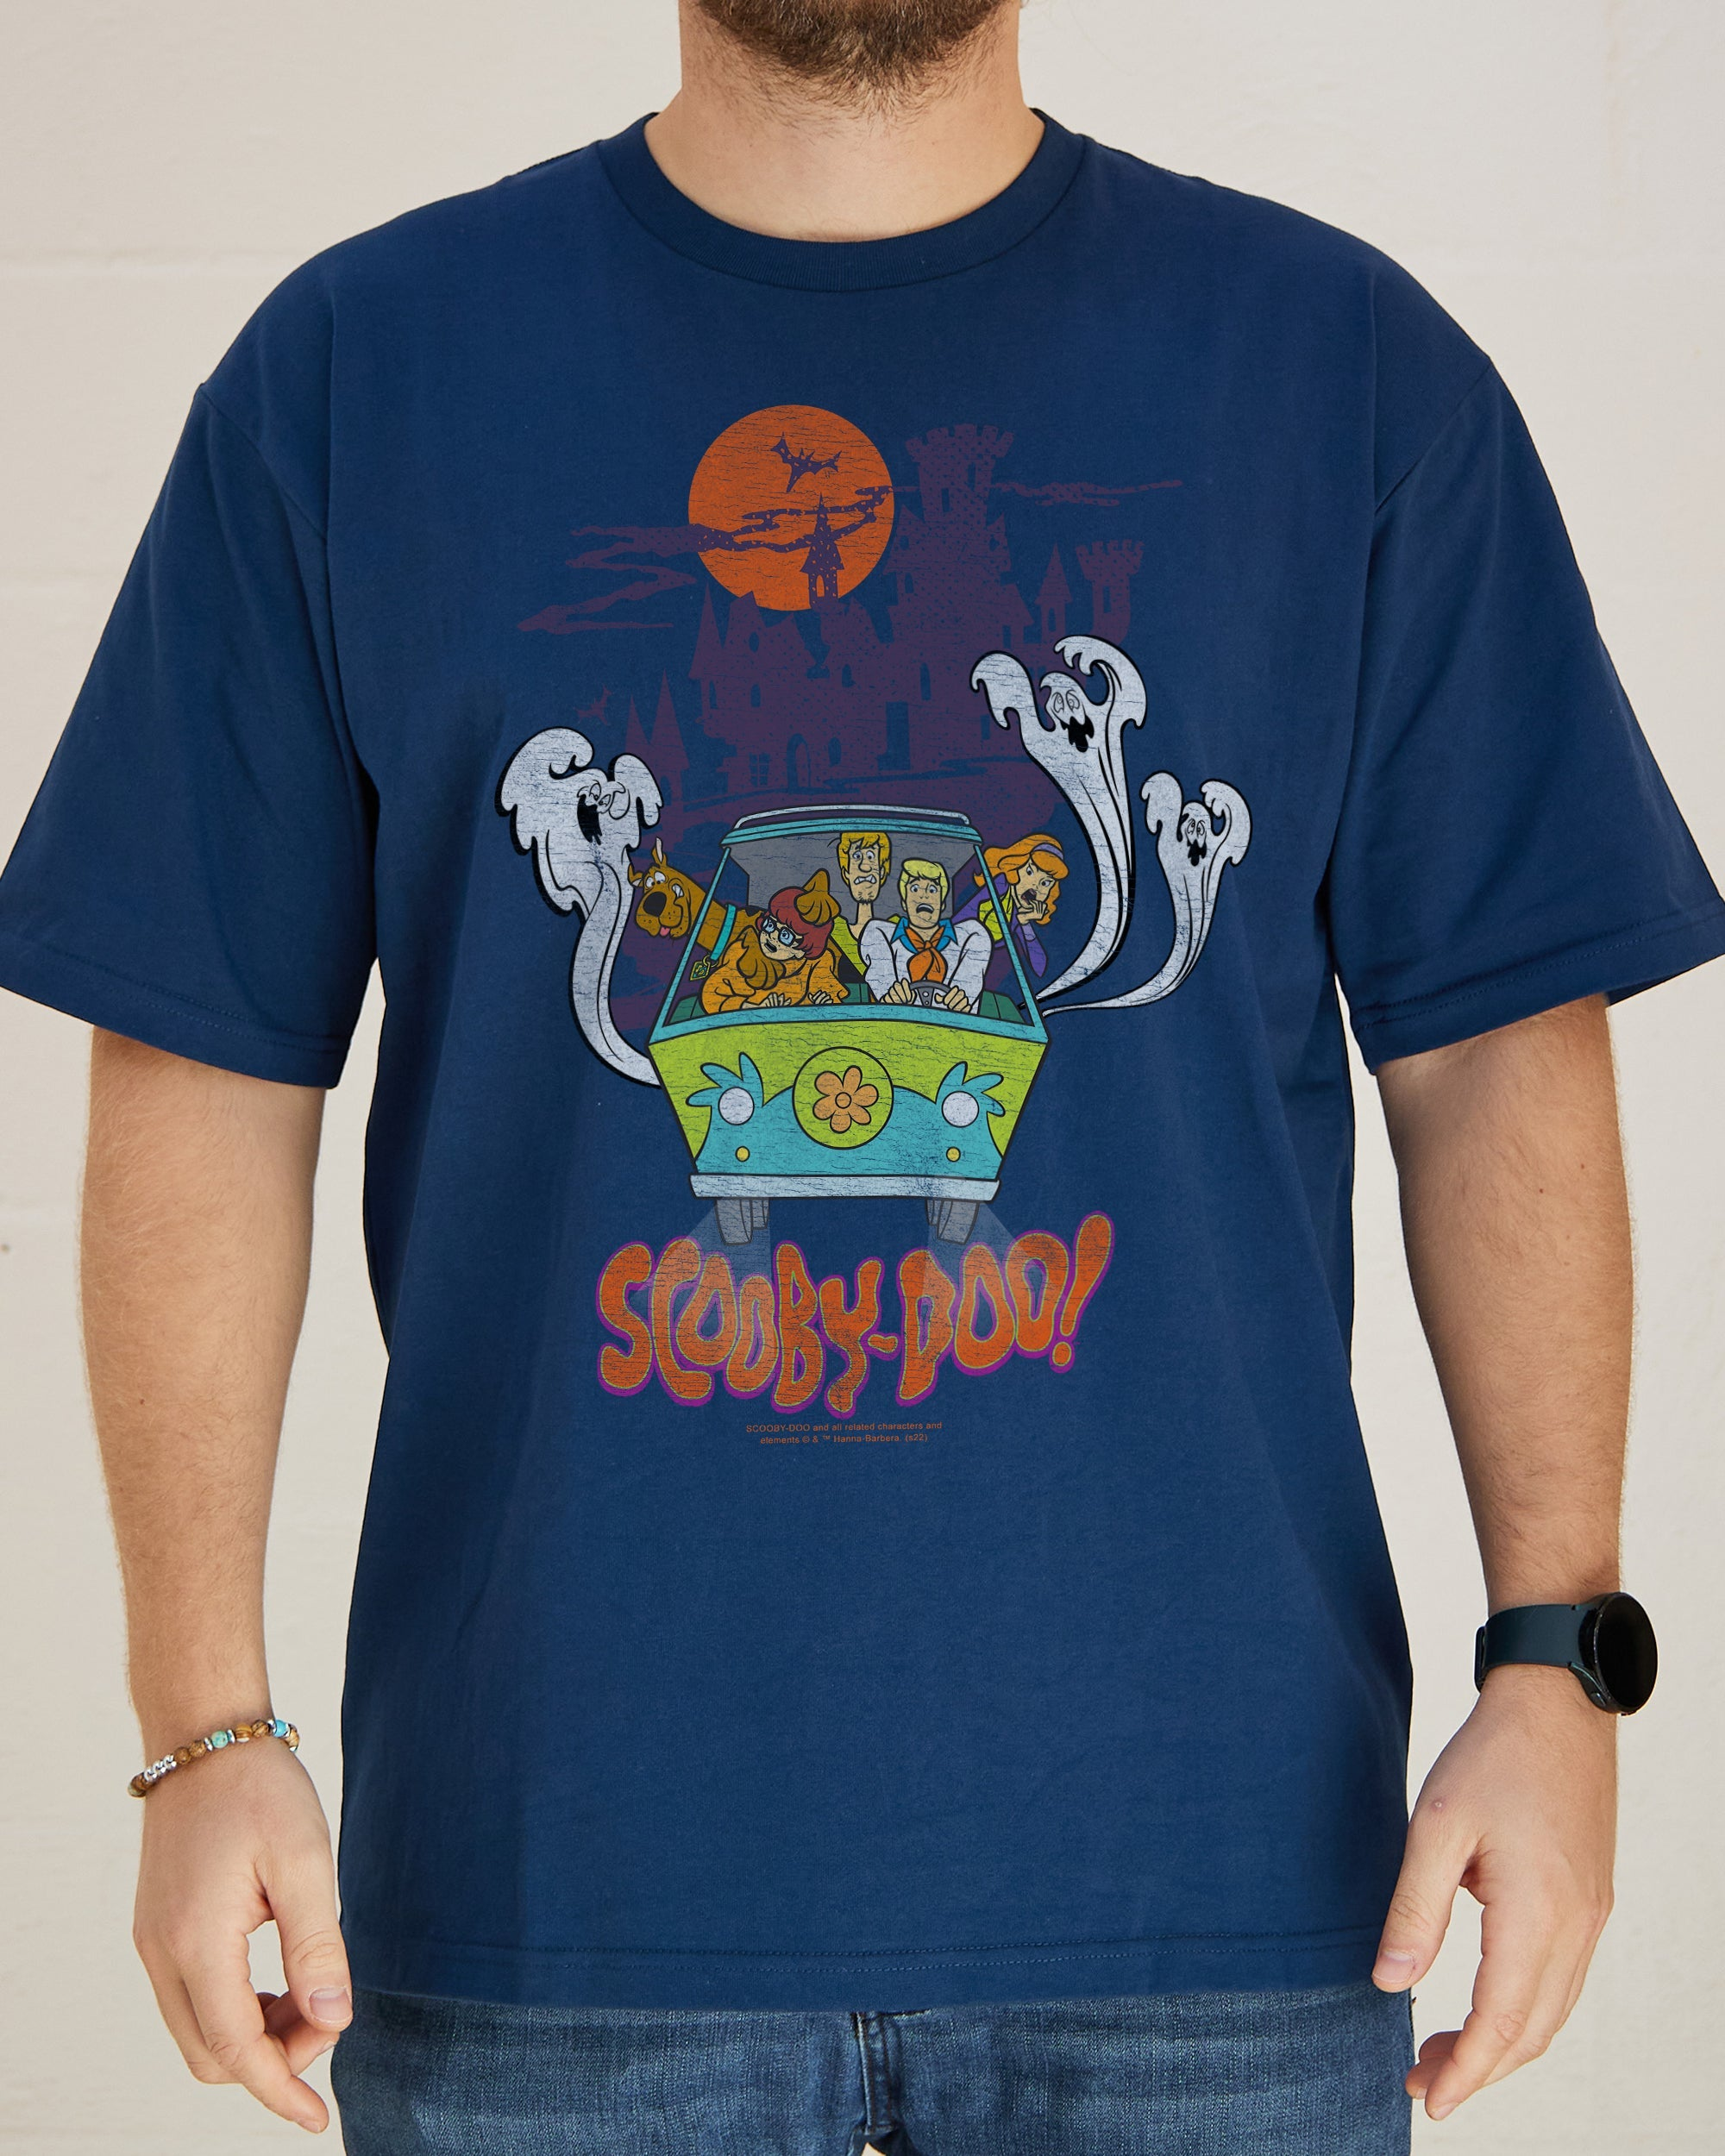design: (488, 387, 1271, 1426)
